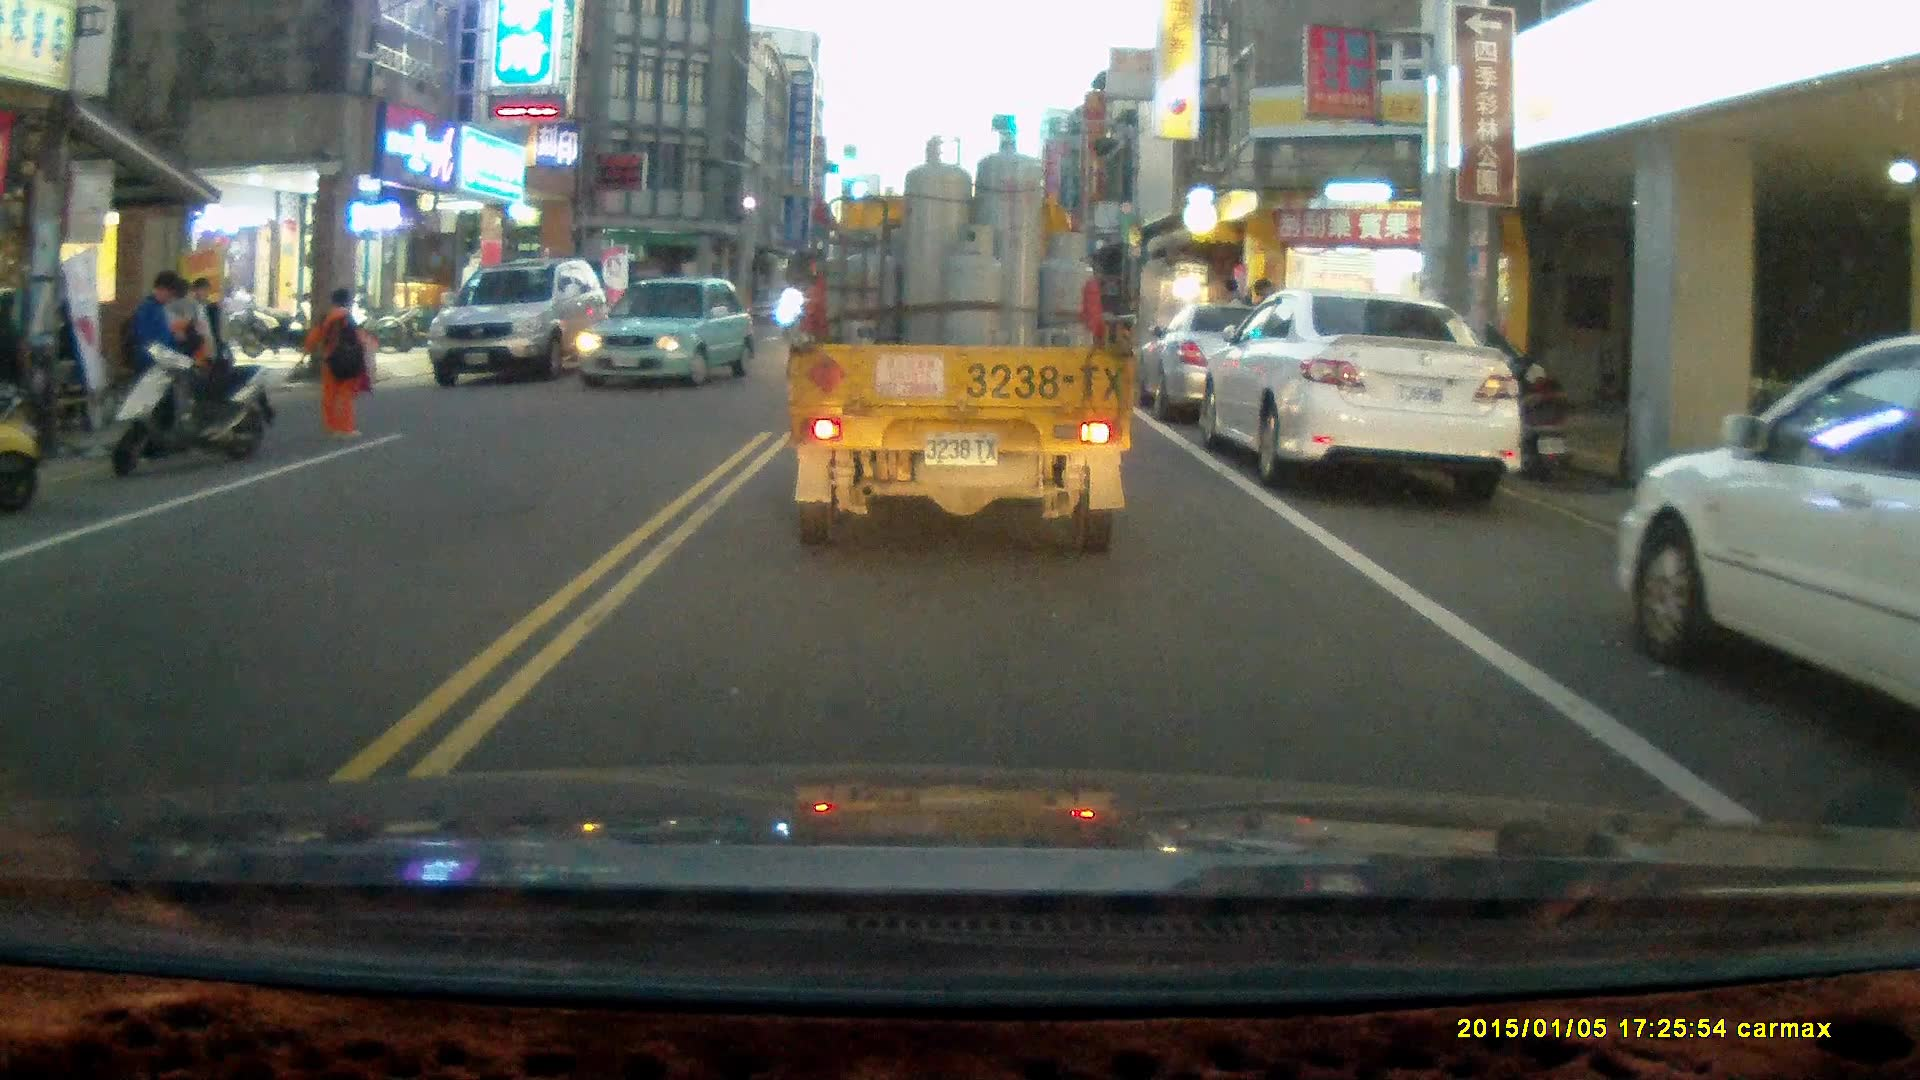pedestrian: (113, 271, 192, 454), (303, 284, 373, 438), (183, 276, 226, 406), (0, 289, 28, 450)
vehicle: (786, 127, 1143, 558), (1631, 333, 1920, 720), (1203, 285, 1524, 499), (1141, 299, 1372, 430), (433, 260, 611, 392), (574, 278, 762, 394)
